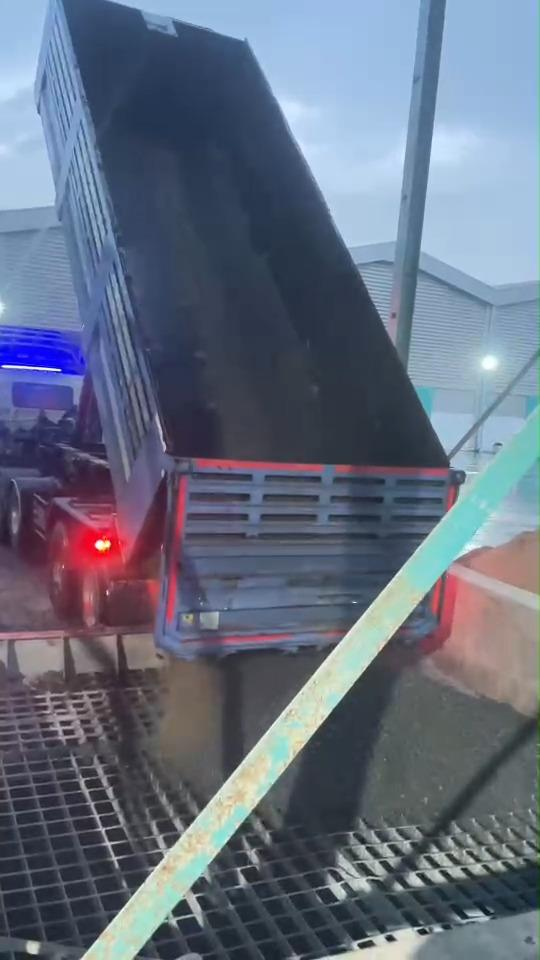gravel: (137, 147, 321, 461), (262, 645, 535, 832), (148, 651, 323, 799), (5, 741, 115, 762)
sand: (461, 528, 538, 597)
